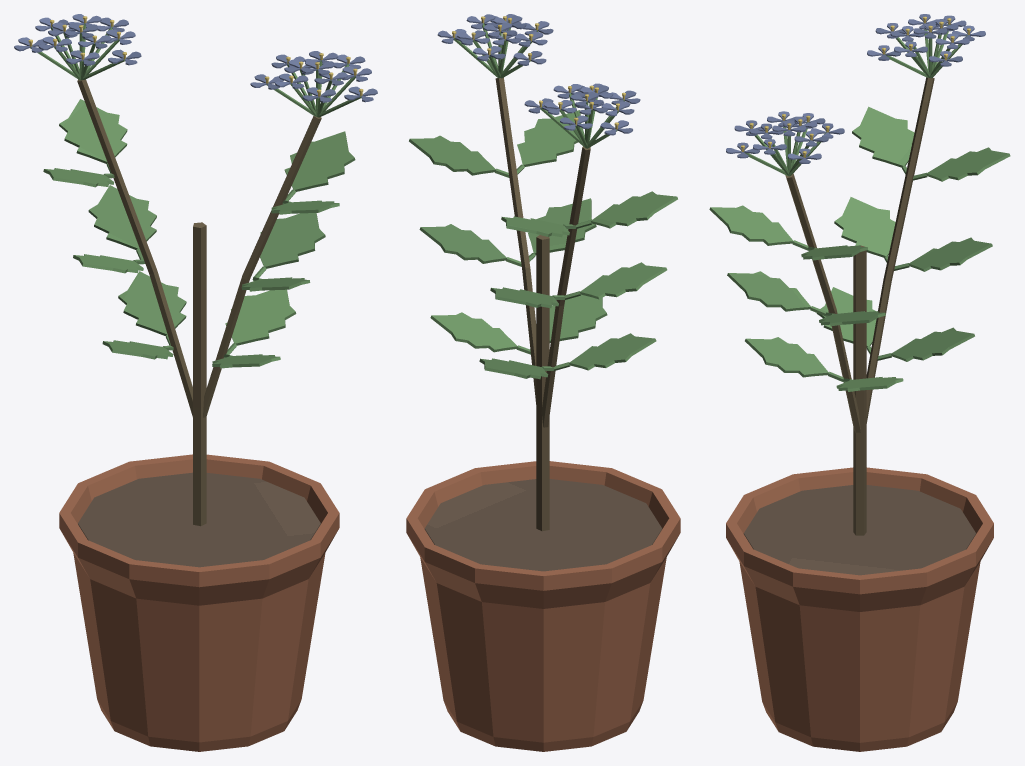
Rendered from hydrangea.glb.
3 views of the same model, side by side, from view 1: azimuth 30°, elevation 25°; view 2: azimuth 150°, elevation 25°; view 3: azimuth 270°, elevation 25° (orthographic). The views are drawn at different scales.
Visible parts, largest first — view 1: hydrangea/review-terra-vessel, hydrangea/review-rooted-soil, hydrangea/petiole-001, hydrangea/stem-092, hydrangea/stem-002, hydrangea/leaf-006, hydrangea/leaf-010, hydrangea/leaf-094, hydrangea/leaf-014, hydrangea/leaf-098, hydrangea/leaf-102, hydrangea/leaf-104 (+5 smaller); view 2: hydrangea/review-terra-vessel, hydrangea/review-rooted-soil, hydrangea/petiole-001, hydrangea/stem-092, hydrangea/stem-002, hydrangea/leaf-012, hydrangea/leaf-010, hydrangea/leaf-014, hydrangea/leaf-006, hydrangea/leaf-004, hydrangea/leaf-096, hydrangea/leaf-100 (+5 smaller); view 3: hydrangea/review-terra-vessel, hydrangea/review-rooted-soil, hydrangea/petiole-001, hydrangea/stem-092, hydrangea/leaf-104, hydrangea/leaf-100, hydrangea/stem-002, hydrangea/leaf-012, hydrangea/leaf-008, hydrangea/leaf-004, hydrangea/leaf-102, hydrangea/leaf-094 (+5 smaller).
Part boxes in pixels (x1,y1,x2,y2): hydrangea/review-terra-vessel: (59, 454, 339, 751); hydrangea/review-rooted-soil: (78, 472, 320, 567); hydrangea/petiole-001: (193, 222, 206, 526); hydrangea/stem-092: (77, 79, 192, 416); hydrangea/stem-002: (203, 116, 321, 417); hydrangea/leaf-006: (225, 289, 296, 345); hydrangea/leaf-010: (260, 213, 325, 268); hydrangea/leaf-094: (118, 271, 186, 336); hydrangea/leaf-014: (284, 131, 355, 191); hydrangea/leaf-098: (88, 185, 156, 249); hydrangea/leaf-102: (59, 99, 127, 163); hydrangea/leaf-104: (43, 168, 114, 187); hydrangea/review-terra-vessel: (406, 461, 680, 751); hydrangea/review-rooted-soil: (424, 479, 662, 571); hydrangea/petiole-001: (536, 235, 549, 531); hydrangea/stem-092: (541, 146, 590, 427); hydrangea/stem-002: (495, 77, 536, 404); hydrangea/leaf-012: (517, 110, 580, 166); hydrangea/leaf-010: (419, 224, 506, 263); hydrangea/leaf-014: (409, 135, 495, 175); hydrangea/leaf-006: (430, 312, 517, 352); hydrangea/leaf-004: (549, 294, 607, 342); hydrangea/leaf-096: (569, 333, 656, 370); hydrangea/leaf-100: (580, 262, 667, 299); hydrangea/review-terra-vessel: (726, 467, 993, 751); hydrangea/review-rooted-soil: (743, 485, 976, 575); hydrangea/petiole-001: (853, 245, 866, 535); hydrangea/stem-092: (866, 77, 934, 423); hydrangea/leaf-104: (852, 106, 914, 167); hydrangea/leaf-100: (834, 197, 895, 257); hydrangea/stem-002: (785, 173, 860, 433); hydrangea/leaf-012: (709, 205, 793, 245); hydrangea/leaf-008: (727, 271, 810, 311); hydrangea/leaf-004: (745, 337, 828, 377); hydrangea/leaf-102: (926, 147, 1010, 181); hydrangea/leaf-094: (891, 327, 974, 361).
Size of the model in its own units: 0.3161 by 0.7205 by 0.3033.
Materials: 6 (6 with a texture image).
